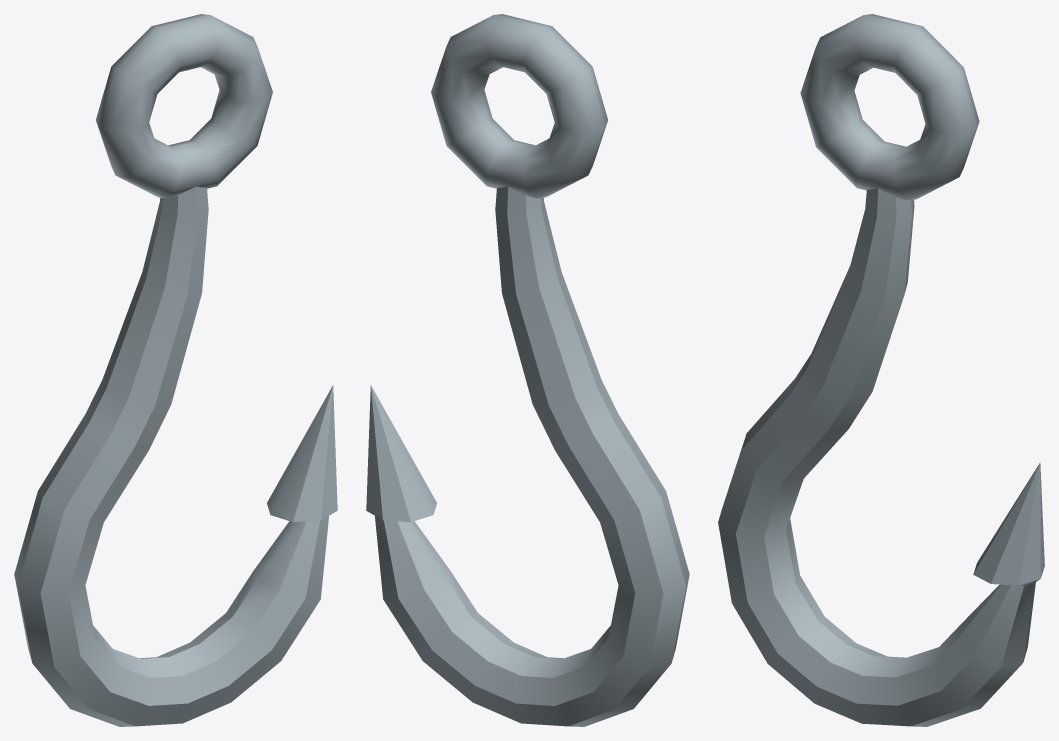
Rendered from hook.gltf.glb.
3 views of the same model, side by side, from view 1: azimuth 30°, elevation 25°; view 2: azimuth 150°, elevation 25°; view 3: azimuth 330°, elevation 25° (orthographic).
Parts seen in each view (by area): view 1: hook; view 2: hook; view 3: hook.
Part boxes in pixels (left/top/right/bottom): hook: left=14, top=14, right=337, bottom=726; hook: left=366, top=14, right=689, bottom=726; hook: left=718, top=14, right=1044, bottom=726.
Size of the model in its own units: 0.1796 by 0.3798 by 0.0364.
